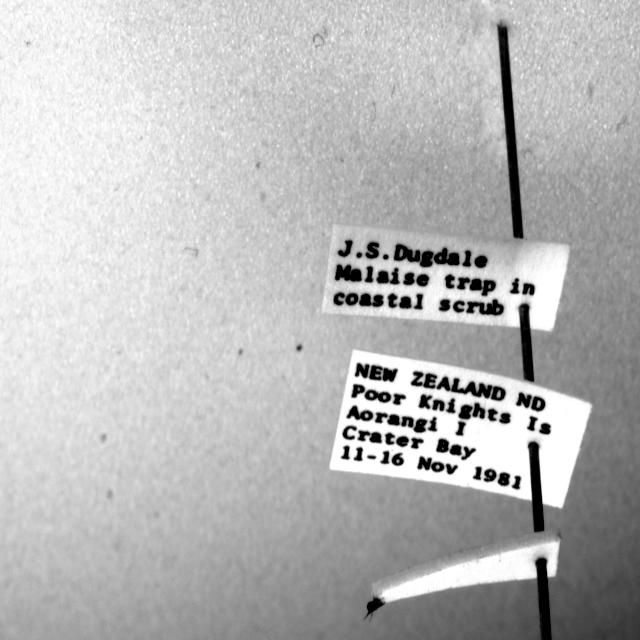typed_label: (330, 351, 591, 508), (322, 225, 570, 330)
